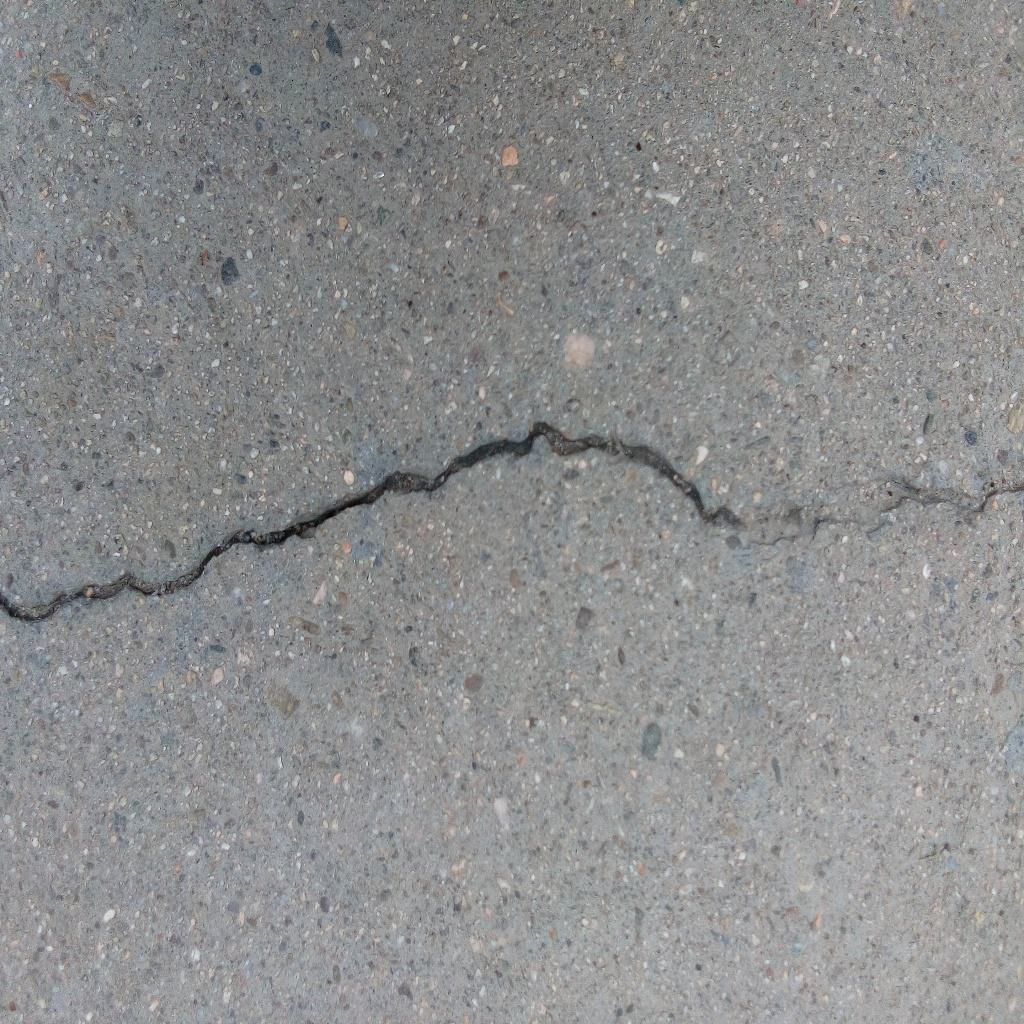Crack: (1, 416, 1024, 622)
